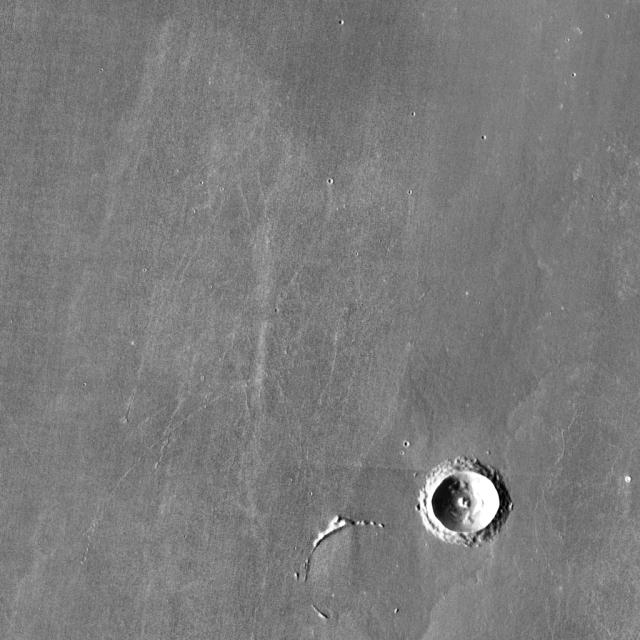crater: (311, 522, 425, 630), (438, 471, 506, 533)
